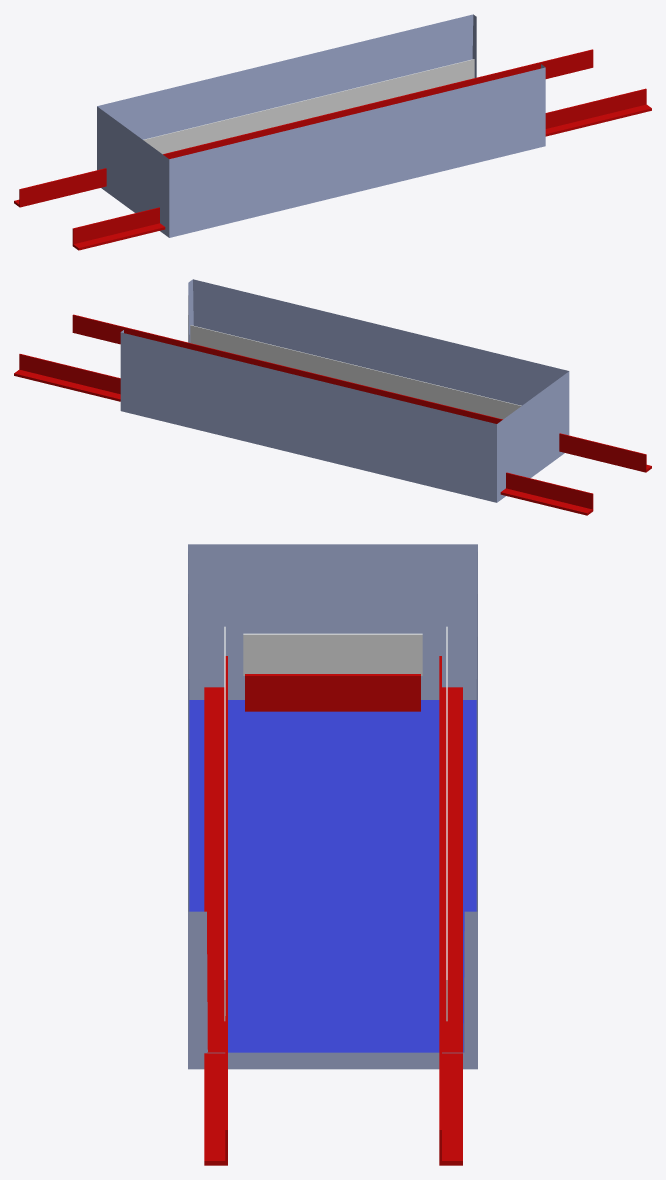
The model's file is Halle4.fbx.
3 views of the same model, one above another, from view 1: azimuth 30°, elevation 25°; view 2: azimuth 150°, elevation 25°; view 3: azimuth 270°, elevation 25° (orthographic). The views are drawn at different scales.
Parts seen in each view (by area): view 1: Cube; view 2: Cube; view 3: Cube.
Boxes of the visible parts, box(x1,y1,x2,y2) form: Cube: box(14, 14, 651, 250); Cube: box(14, 279, 651, 515); Cube: box(188, 544, 477, 1165).
Size of the model in its own units: 914 by 120 by 200.
Materials: 5 (1 with a texture image).
